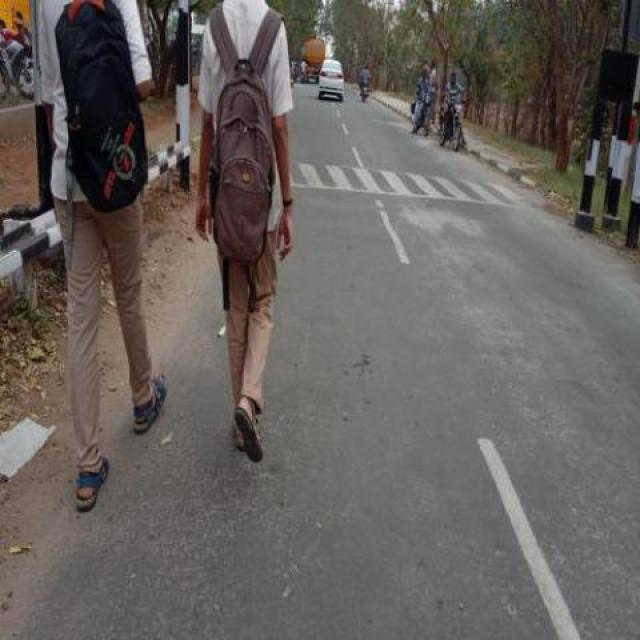Speed Bump: (292, 158, 522, 213)
